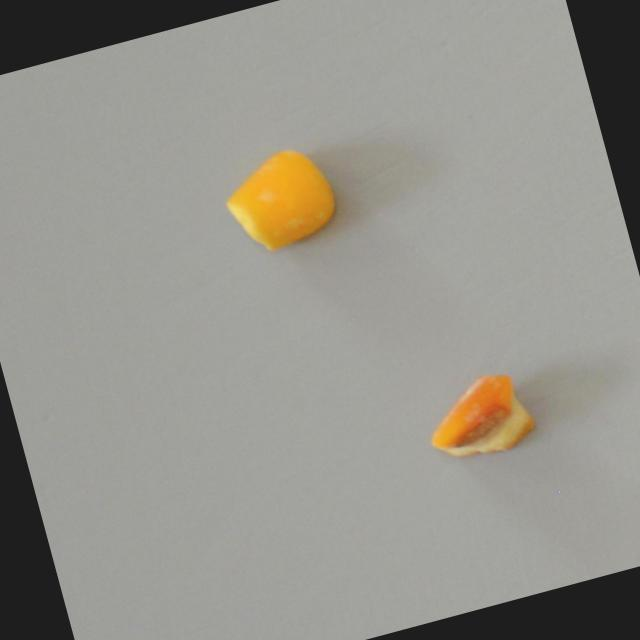dañado: (416, 362, 545, 473)
pelicula: (215, 137, 347, 260)
